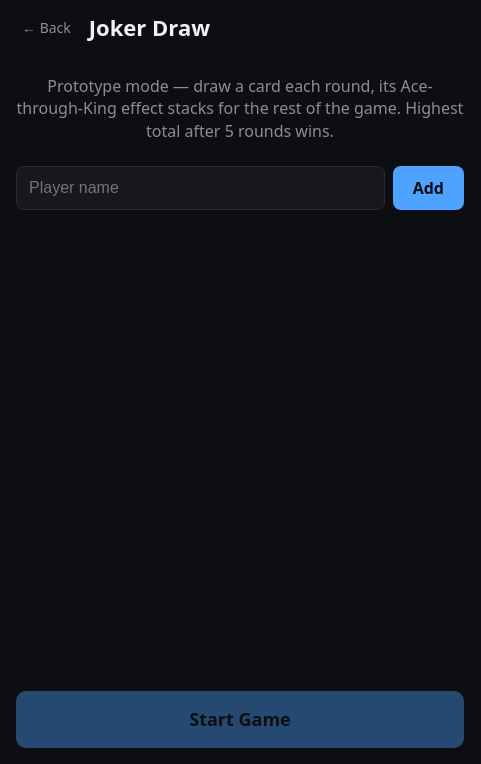
Test: turn flow › banks the joker-adjusted score on the 3rd dart and advances to the next player
This screenshot has width=481, height=764.
Type "Alice" into the field with placeholder "Player name".
click(200, 188); type("Alice")  # box [16, 166, 385, 210]
Then press Enter
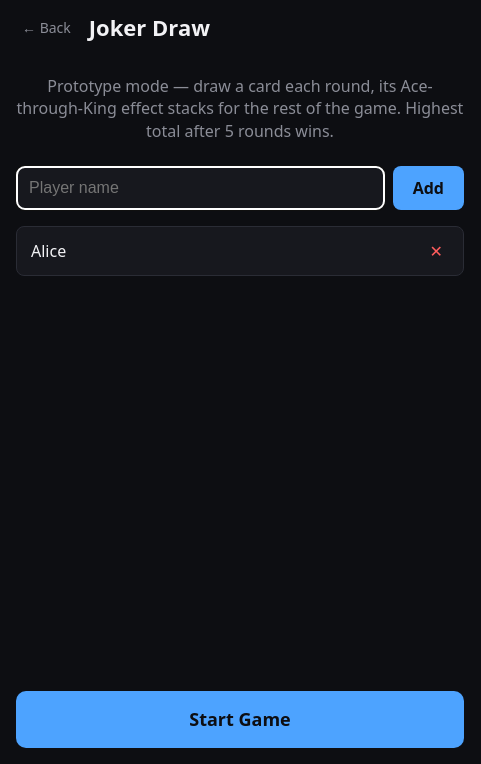
Type "Bob" into the field with placeholder "Player name".
click(200, 188); type("Bob")  # box [16, 166, 385, 210]
Then press Enter
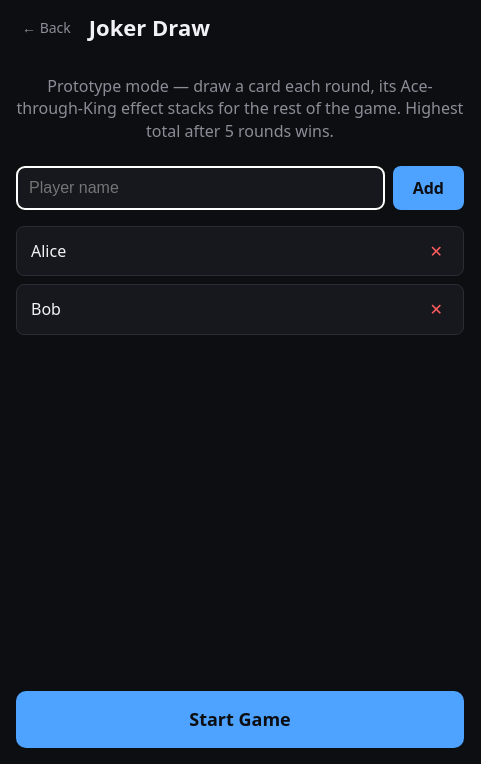
Click the button "Start Game".
click(240, 719)  # box [16, 691, 464, 748]
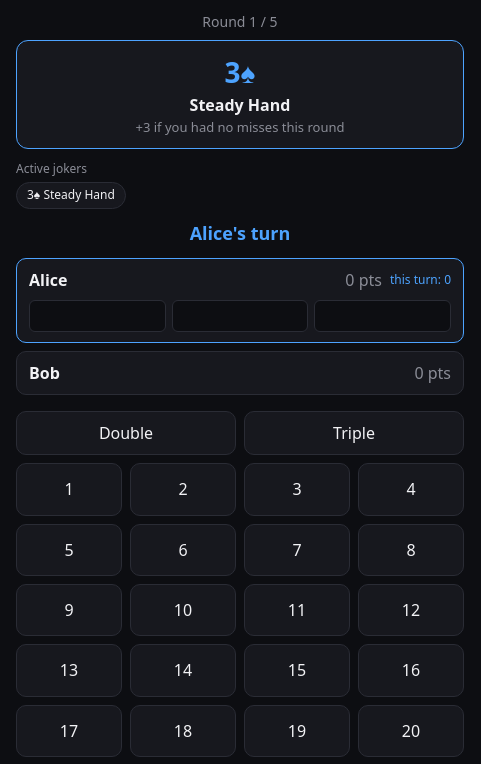
Click the button "20".
click(411, 731)  # box [358, 705, 464, 757]
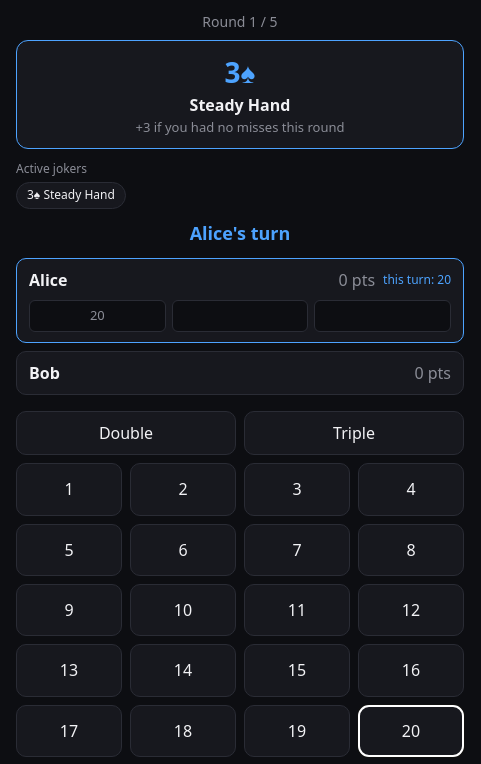
Click the button "20".
click(411, 731)  # box [358, 705, 464, 757]
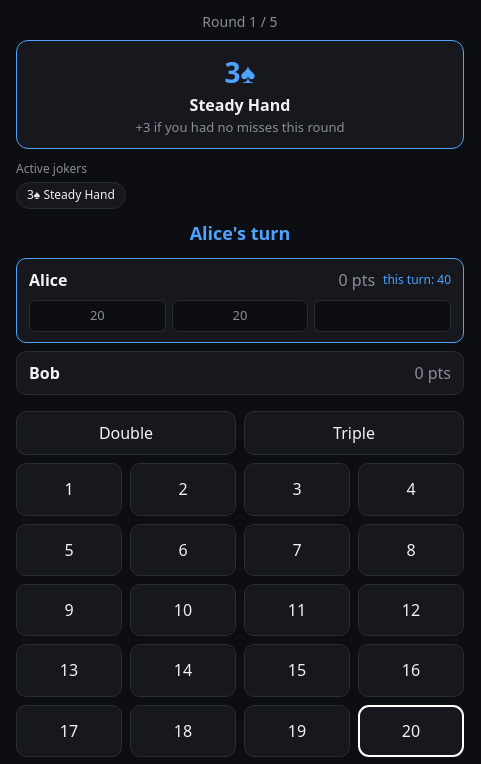
Click the button "20".
click(411, 731)  # box [358, 705, 464, 757]
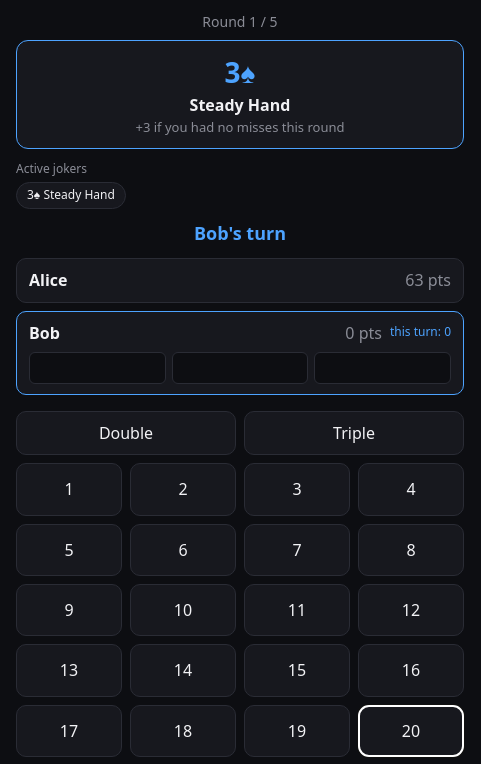
Check: the text "Alice" is shown, box [29, 269, 68, 291]
Check: the text "Bob's turn" is shown, box [194, 221, 286, 245]
